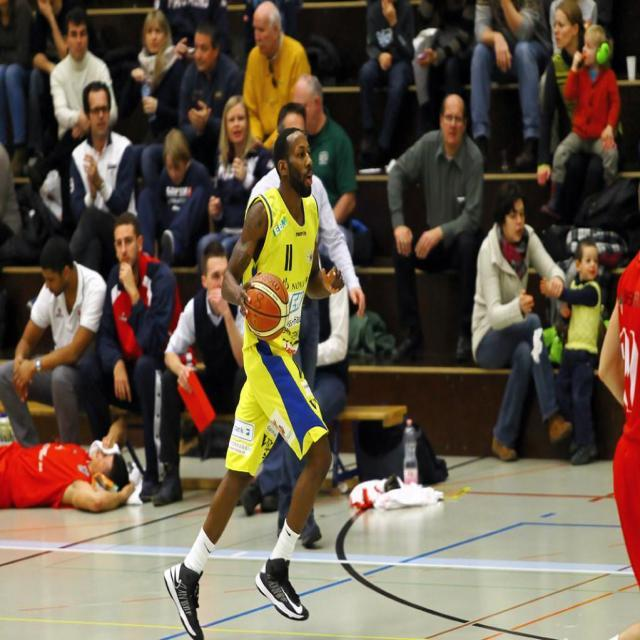rim: (246, 272, 290, 337)
